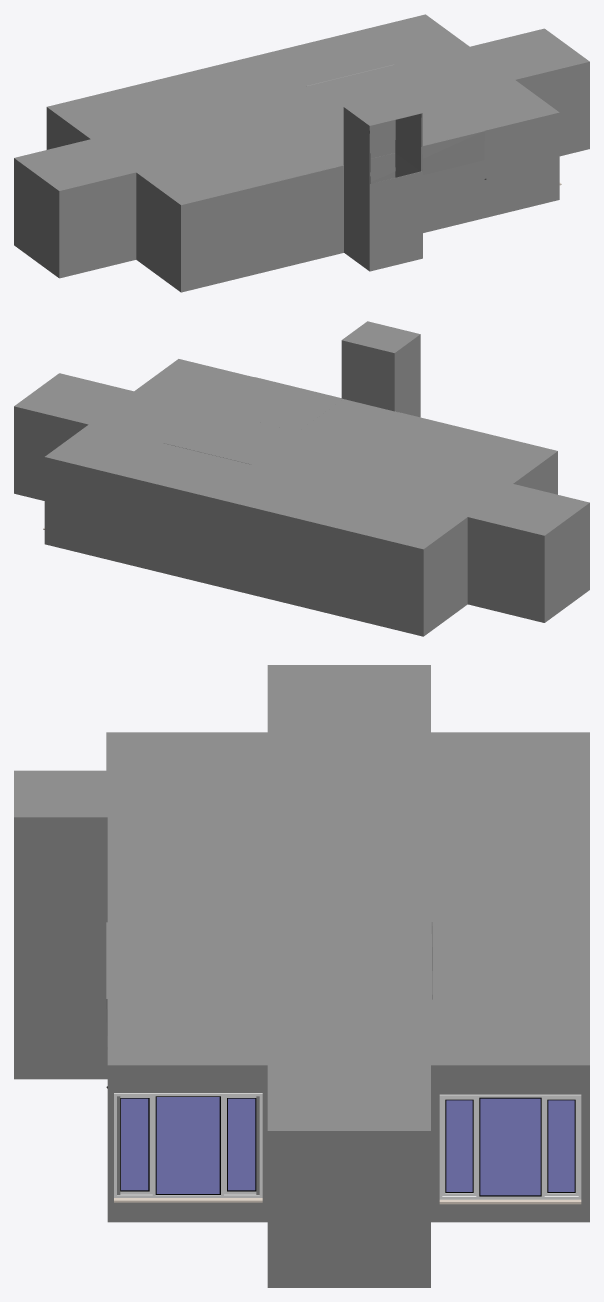
File: Prueba-escalado.fbx
The picture shows the model from 3 angles, top to bottom: view 1: azimuth 30°, elevation 25°; view 2: azimuth 150°, elevation 25°; view 3: azimuth 270°, elevation 25°; orthographic projection. The views are drawn at different scales.
Parts seen in each view (by area): view 1: Level1, Level1.techo; view 2: Level1, Level1.techo; view 3: Level1.techo, Level1, Window, Window.002.
Part boxes in pixels (x1=…): Level1: x1=14, y1=61, x2=589, y2=292; Level1.techo: x1=14, y1=14, x2=589, y2=204; Level1: x1=14, y1=334, x2=589, y2=636; Level1.techo: x1=14, y1=321, x2=589, y2=549; Level1.techo: x1=14, y1=665, x2=589, y2=1130; Level1: x1=14, y1=732, x2=589, y2=1287; Window: x1=114, y1=1093, x2=262, y2=1202; Window.002: x1=439, y1=1094, x2=581, y2=1204.
Size of the model in its own units: 2855 by 750 by 1492.
